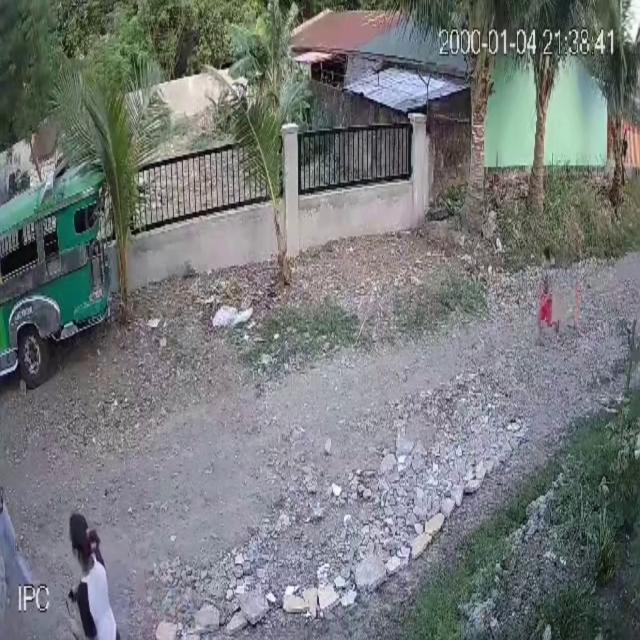running: (528, 245, 564, 356)
walking: (62, 508, 126, 640), (620, 126, 630, 190)
